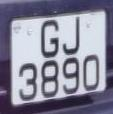0: (81, 49, 102, 96)
3: (17, 55, 41, 105)
8: (37, 57, 63, 99)
9: (60, 54, 82, 97)
G: (39, 17, 62, 62)
J: (61, 16, 82, 59)
